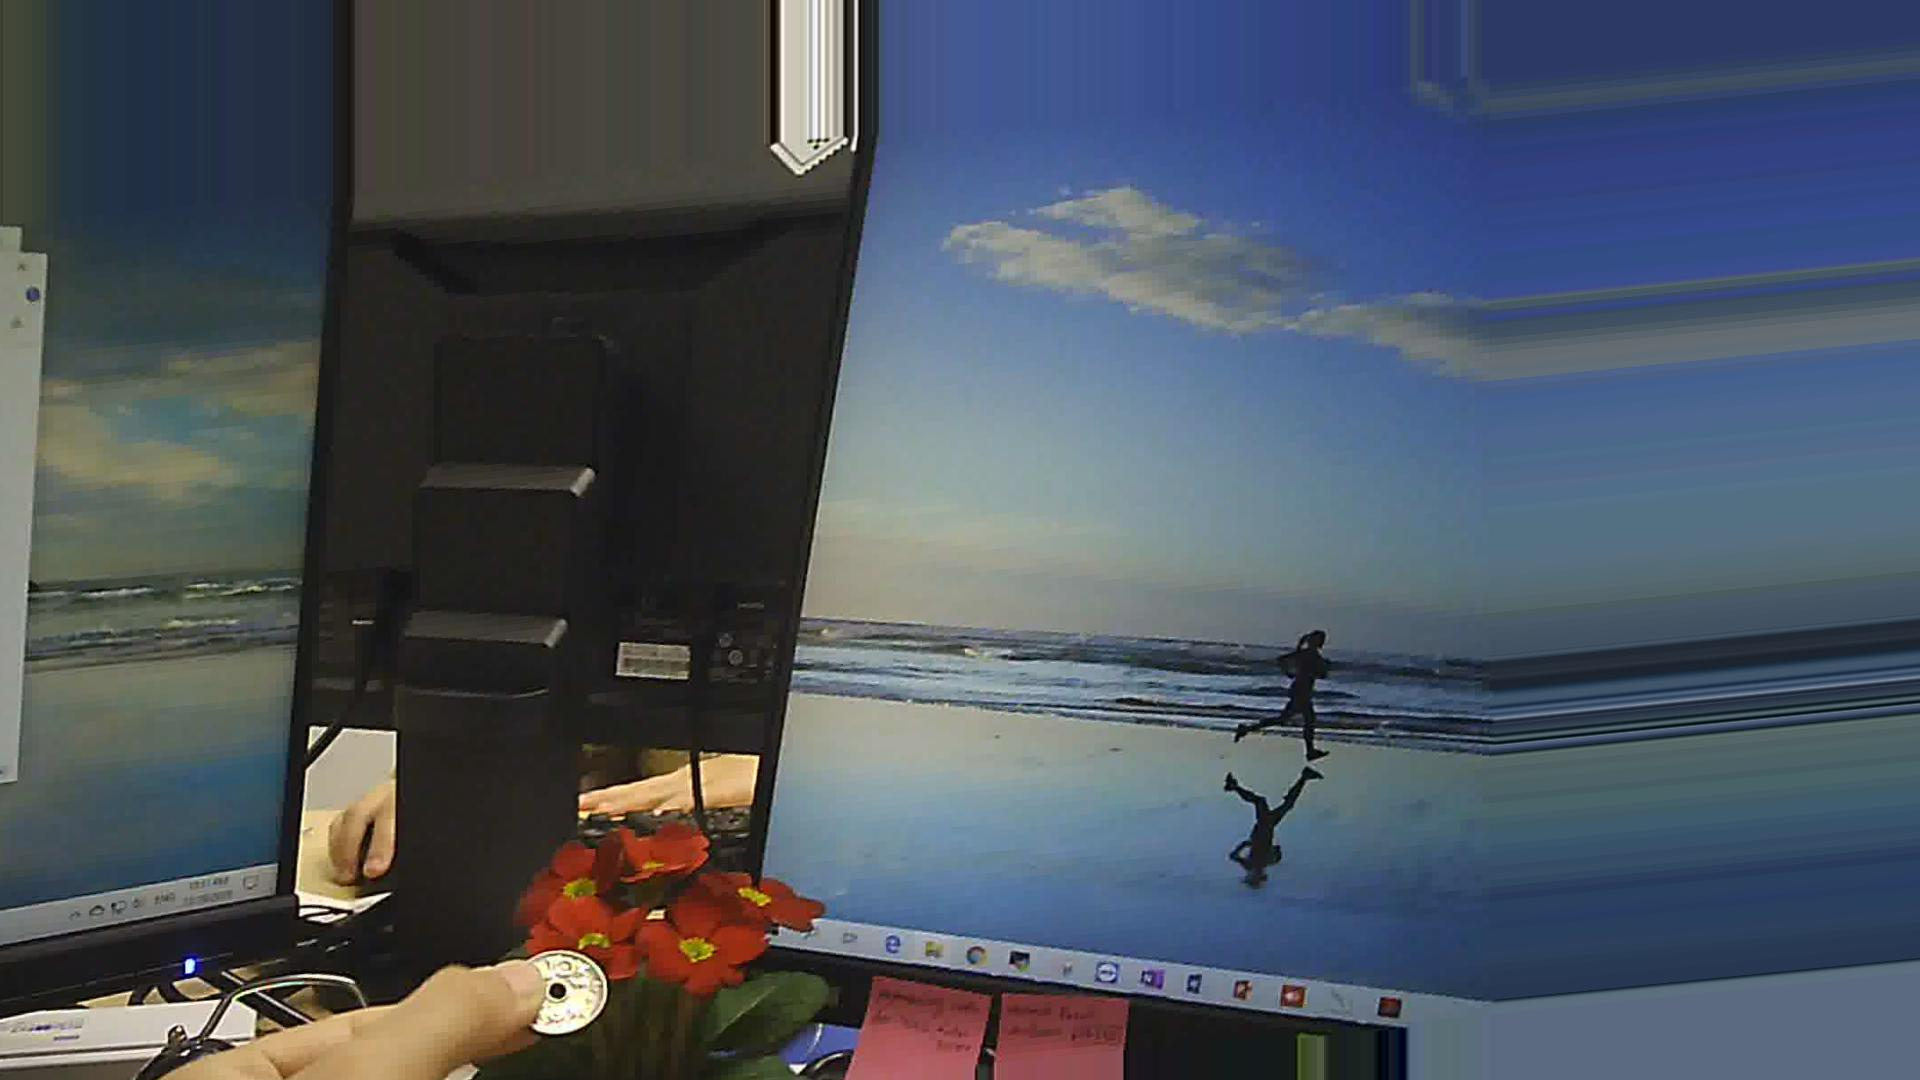50 Yen: (508, 942, 617, 1036)
